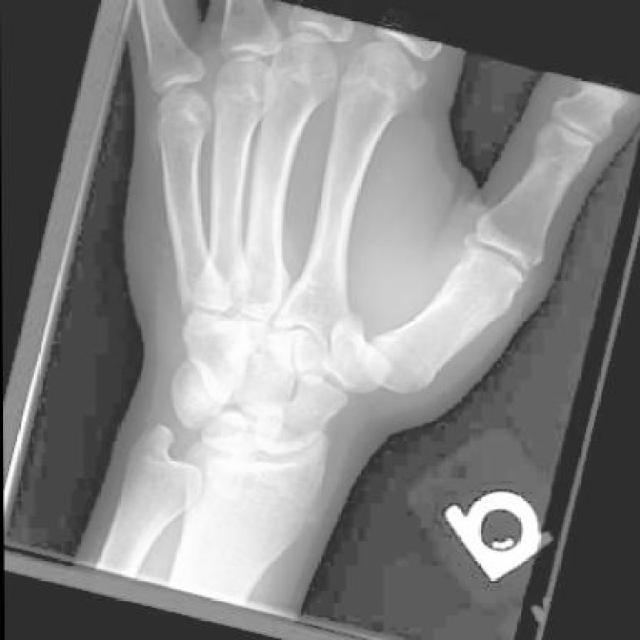Fracture: (320, 308, 432, 413)
